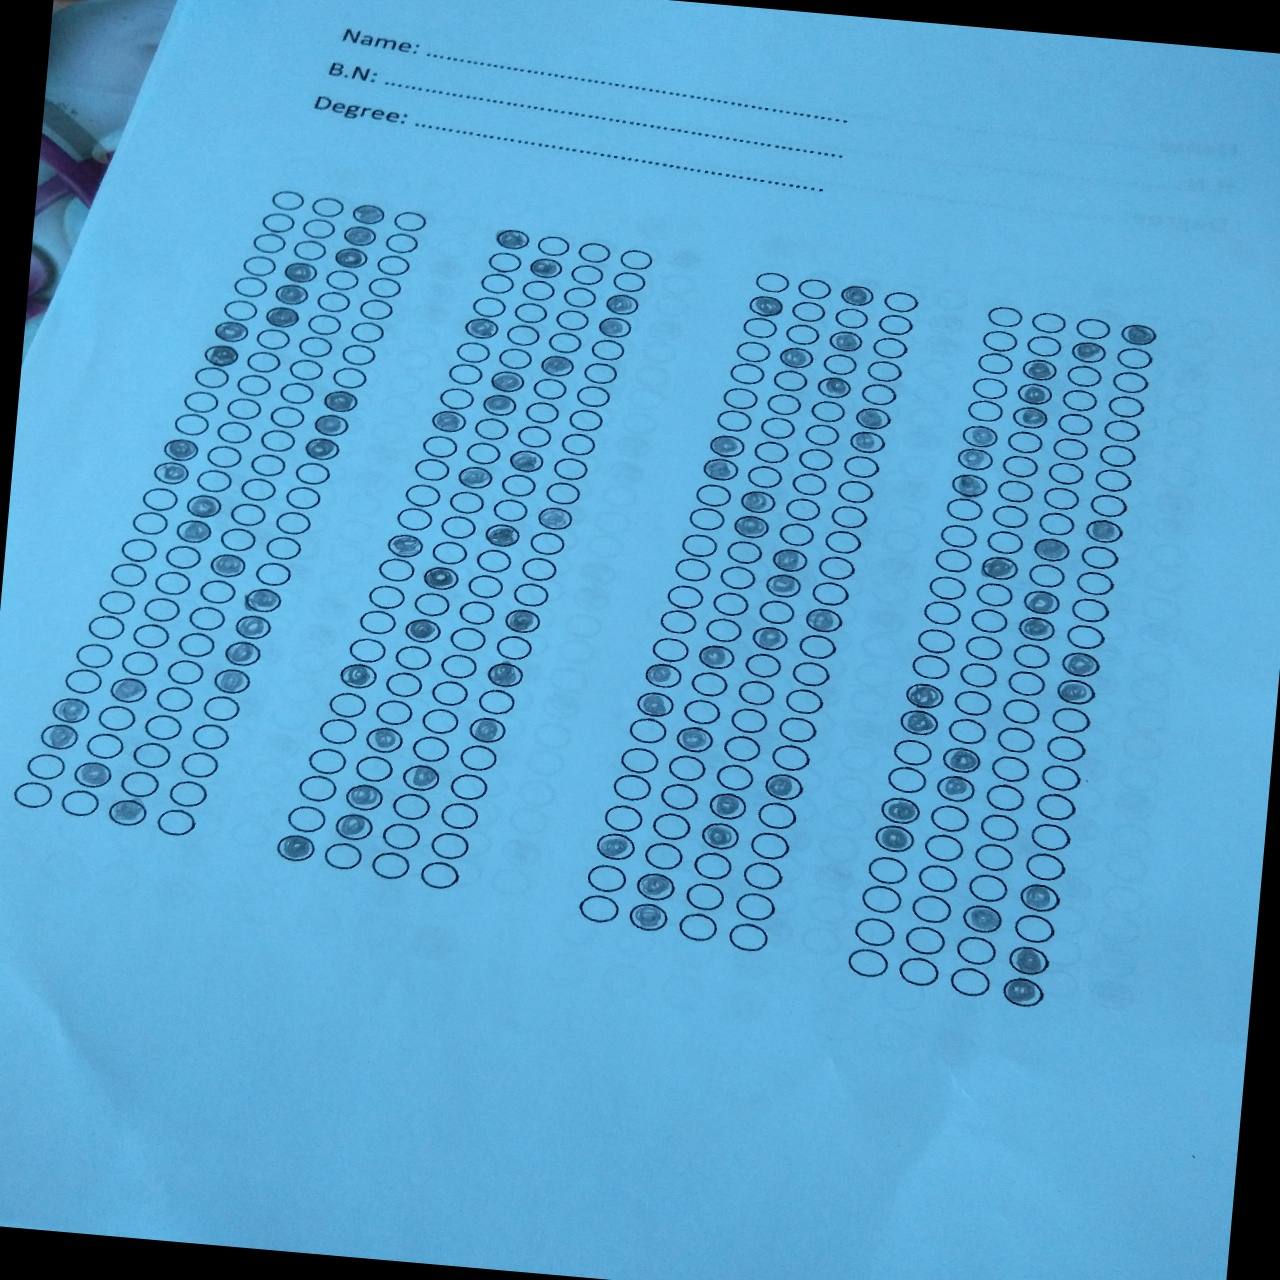not-c: (733, 888, 778, 922), (690, 847, 735, 881), (576, 893, 622, 925), (776, 713, 819, 747), (915, 862, 959, 896), (860, 881, 904, 915), (675, 910, 720, 942), (741, 859, 785, 892), (903, 924, 947, 956), (57, 787, 101, 819), (154, 806, 197, 839), (369, 849, 413, 881), (316, 715, 360, 748), (602, 802, 646, 835), (747, 829, 790, 862), (853, 915, 897, 948), (948, 965, 992, 998), (445, 772, 490, 804), (726, 921, 770, 953), (966, 872, 1010, 904), (896, 955, 940, 987), (908, 893, 953, 925), (586, 862, 627, 896), (321, 840, 363, 873), (379, 821, 421, 853), (438, 799, 481, 832), (373, 696, 415, 729), (611, 771, 653, 804), (846, 946, 888, 979), (389, 791, 433, 823), (409, 734, 452, 765), (769, 741, 812, 772), (682, 881, 726, 913), (1049, 704, 1092, 736), (866, 855, 910, 886), (1012, 913, 1055, 945), (954, 934, 998, 966), (418, 704, 459, 737), (756, 799, 797, 832), (644, 840, 685, 873), (118, 768, 161, 799), (284, 803, 326, 835), (295, 774, 338, 805), (352, 754, 394, 785), (306, 745, 348, 777), (325, 688, 367, 720), (475, 686, 517, 717), (447, 624, 489, 655), (428, 537, 470, 568), (658, 781, 700, 812), (456, 743, 499, 774), (1029, 821, 1073, 851), (131, 740, 172, 771), (493, 632, 535, 663), (651, 810, 692, 842), (142, 712, 184, 742), (12, 779, 54, 810), (25, 751, 67, 782), (418, 859, 461, 890), (429, 831, 471, 862), (429, 678, 471, 708), (438, 652, 481, 682), (356, 607, 399, 638), (376, 554, 418, 585), (471, 545, 513, 576), (517, 553, 559, 584), (713, 761, 755, 791), (952, 688, 994, 719), (996, 724, 1039, 755), (946, 716, 988, 747), (886, 765, 928, 796), (983, 782, 1026, 812), (989, 753, 1032, 783), (1034, 791, 1076, 822), (972, 842, 1014, 872), (783, 686, 824, 716), (728, 704, 769, 735), (721, 734, 762, 764), (681, 696, 722, 727), (1046, 733, 1087, 763), (930, 803, 971, 833), (1024, 851, 1065, 881), (346, 635, 388, 665), (366, 583, 408, 612), (410, 588, 452, 618), (455, 598, 497, 627), (464, 572, 506, 601), (791, 659, 833, 688), (1000, 696, 1042, 726), (891, 737, 933, 767), (1039, 764, 1081, 794), (922, 832, 965, 862), (130, 509, 170, 539), (190, 723, 231, 753), (168, 779, 209, 809), (815, 553, 856, 583), (810, 579, 851, 608), (679, 531, 720, 560), (796, 632, 837, 661), (627, 716, 668, 745), (736, 678, 777, 707), (666, 753, 707, 782), (688, 670, 729, 700), (1065, 622, 1107, 652), (964, 633, 1005, 662), (980, 812, 1021, 842), (382, 670, 424, 699), (508, 581, 550, 610), (821, 527, 863, 556), (717, 564, 760, 592), (701, 617, 743, 645), (755, 597, 797, 625), (618, 745, 660, 774), (920, 599, 962, 627), (253, 559, 293, 588), (163, 542, 203, 571), (198, 576, 238, 605), (86, 612, 125, 641), (131, 621, 171, 651), (395, 505, 435, 535), (513, 421, 553, 450), (933, 546, 973, 576), (154, 685, 195, 713), (96, 703, 137, 731), (179, 751, 220, 779), (392, 644, 433, 672), (542, 479, 583, 508), (411, 456, 452, 484), (840, 452, 881, 481), (723, 538, 764, 566), (672, 556, 713, 584), (665, 583, 706, 611), (658, 608, 699, 636), (709, 590, 750, 618), (651, 635, 692, 663), (742, 651, 783, 679), (1114, 343, 1155, 372), (915, 627, 956, 655), (219, 525, 258, 554), (120, 535, 158, 564), (152, 568, 191, 598), (186, 604, 225, 633), (229, 501, 268, 529), (139, 485, 179, 513), (264, 533, 304, 561), (120, 649, 159, 678), (74, 642, 114, 670), (200, 694, 240, 722), (86, 731, 125, 760), (445, 489, 485, 517), (490, 496, 530, 524), (550, 455, 590, 483), (472, 415, 512, 443), (557, 430, 597, 458), (565, 407, 605, 435), (436, 384, 476, 413), (444, 360, 484, 388), (567, 260, 607, 288), (938, 522, 978, 550), (985, 527, 1024, 556), (927, 574, 967, 602), (1026, 563, 1065, 591), (1080, 543, 1119, 571), (1070, 595, 1110, 624), (971, 607, 1010, 635), (911, 653, 951, 681), (958, 661, 998, 689), (1007, 669, 1047, 697), (520, 399, 561, 425), (1092, 467, 1133, 493), (273, 509, 312, 537), (142, 595, 181, 624), (96, 588, 135, 617), (177, 631, 216, 659), (165, 658, 204, 686), (63, 667, 102, 695), (225, 395, 265, 422), (172, 411, 212, 438), (402, 483, 442, 510), (497, 471, 537, 498), (463, 440, 503, 467), (420, 433, 459, 459), (452, 339, 492, 366), (493, 345, 533, 372), (572, 382, 612, 409), (586, 336, 626, 363), (484, 248, 524, 275), (533, 232, 573, 259), (608, 268, 648, 295), (753, 270, 792, 297), (881, 288, 921, 315), (830, 304, 870, 331), (783, 321, 823, 348), (733, 338, 772, 365), (769, 366, 809, 393), (821, 350, 860, 377), (719, 384, 758, 411), (835, 478, 874, 505), (775, 522, 815, 549), (1050, 435, 1090, 462), (1097, 443, 1137, 470), (974, 581, 1014, 608), (1075, 570, 1115, 597), (1012, 644, 1051, 670), (181, 389, 222, 415), (787, 298, 828, 324), (964, 399, 1005, 424), (1005, 428, 1046, 454), (527, 529, 565, 557), (293, 459, 332, 486), (109, 561, 148, 588), (478, 270, 517, 297), (802, 421, 840, 448), (796, 445, 835, 472), (986, 304, 1024, 331), (1028, 309, 1067, 336), (1055, 410, 1094, 437), (1001, 452, 1040, 479), (215, 418, 254, 444), (256, 427, 295, 452), (204, 444, 244, 470), (193, 468, 233, 493), (282, 485, 322, 511), (529, 376, 568, 402), (579, 360, 619, 386), (545, 331, 585, 356), (502, 322, 542, 348), (468, 294, 508, 320), (510, 300, 550, 326), (559, 284, 599, 309), (574, 239, 614, 265), (794, 275, 833, 301), (876, 312, 915, 338), (740, 315, 779, 341), (870, 335, 910, 361), (808, 399, 847, 424), (757, 415, 797, 441), (789, 471, 829, 497), (693, 482, 733, 508), (686, 508, 726, 533), (1074, 315, 1114, 341), (1024, 333, 1064, 359), (971, 375, 1010, 401), (1060, 387, 1099, 413), (1109, 369, 1149, 395), (1107, 394, 1146, 420), (1102, 418, 1142, 444), (944, 495, 983, 520), (990, 503, 1030, 529), (1046, 461, 1085, 486), (1042, 486, 1082, 512), (392, 207, 429, 234), (268, 404, 307, 430), (248, 451, 287, 477), (239, 476, 278, 502), (518, 277, 557, 302), (617, 247, 655, 273), (727, 361, 765, 387), (864, 359, 903, 384), (859, 382, 898, 408), (764, 392, 803, 417), (751, 440, 790, 465), (745, 464, 784, 490), (830, 504, 869, 530), (783, 496, 822, 522), (981, 328, 1020, 354), (975, 349, 1014, 375), (1065, 363, 1104, 389), (995, 479, 1034, 505), (1037, 510, 1076, 536), (1089, 493, 1128, 519), (440, 513, 476, 540), (268, 188, 306, 213), (291, 237, 328, 263), (358, 297, 395, 322), (340, 342, 377, 368), (331, 365, 368, 390), (305, 312, 342, 338), (236, 372, 273, 397), (278, 381, 315, 407), (552, 307, 590, 333), (715, 407, 753, 433), (309, 195, 345, 222), (383, 230, 420, 256), (300, 216, 336, 241), (260, 209, 297, 234), (375, 253, 411, 279), (367, 274, 403, 300), (287, 358, 324, 383), (297, 334, 333, 360), (322, 267, 359, 293), (240, 253, 277, 279), (222, 297, 258, 322), (193, 365, 230, 390), (231, 274, 268, 299), (245, 349, 282, 374), (251, 231, 287, 256), (254, 326, 291, 350), (315, 290, 350, 314), (349, 320, 384, 343)
taken-c: (1005, 942, 1053, 978), (1000, 976, 1048, 1010), (871, 821, 919, 855), (960, 900, 1006, 935), (1016, 881, 1063, 915), (932, 772, 979, 805), (900, 679, 947, 712), (894, 706, 941, 737), (1051, 675, 1099, 706), (633, 870, 676, 903), (956, 420, 1001, 451), (937, 744, 983, 774), (484, 659, 527, 690), (400, 615, 443, 647), (879, 794, 922, 825), (331, 811, 375, 842), (420, 565, 464, 595), (1019, 588, 1063, 619), (978, 552, 1022, 583), (1082, 517, 1126, 547), (946, 471, 990, 502), (38, 721, 80, 753), (105, 797, 148, 829), (274, 832, 318, 863), (399, 762, 442, 792), (362, 726, 406, 756), (1029, 535, 1073, 565), (673, 724, 717, 754), (699, 821, 740, 852), (70, 760, 113, 790), (342, 783, 384, 813), (465, 716, 508, 747), (336, 661, 379, 692), (452, 462, 495, 492), (803, 605, 845, 635), (642, 661, 685, 692), (626, 901, 668, 932), (633, 689, 676, 719), (762, 772, 805, 802), (953, 444, 996, 474), (1058, 651, 1103, 679), (1013, 615, 1057, 644), (1065, 338, 1110, 366), (232, 613, 273, 644), (535, 504, 576, 535), (707, 791, 748, 822), (594, 831, 635, 862), (501, 607, 543, 636), (695, 641, 737, 670), (749, 625, 792, 653), (1007, 404, 1050, 433), (1017, 356, 1061, 384), (1117, 322, 1160, 350), (244, 586, 284, 617), (504, 447, 545, 476), (1013, 380, 1056, 407), (210, 666, 250, 695), (108, 675, 148, 704), (52, 696, 91, 726), (384, 533, 425, 561), (483, 520, 524, 549), (536, 352, 577, 380), (224, 639, 263, 668), (427, 407, 467, 435), (486, 368, 526, 396), (461, 315, 501, 343), (339, 222, 377, 250), (776, 343, 815, 372), (847, 428, 886, 456), (708, 433, 747, 461), (207, 552, 247, 579), (602, 292, 642, 319), (527, 254, 567, 281), (747, 291, 787, 318), (813, 374, 853, 401), (281, 258, 320, 285), (272, 282, 311, 309), (263, 304, 301, 331), (152, 459, 191, 486), (183, 493, 222, 520), (173, 517, 212, 544), (481, 392, 519, 418), (595, 314, 634, 341), (492, 226, 531, 253), (837, 282, 876, 309), (828, 327, 866, 354), (855, 406, 893, 433), (700, 457, 738, 484), (736, 488, 775, 515), (731, 515, 770, 542), (763, 572, 802, 599), (331, 244, 370, 270), (313, 413, 350, 440), (302, 435, 340, 462), (770, 546, 808, 573), (348, 200, 387, 226), (202, 342, 240, 368), (320, 388, 359, 414), (162, 437, 200, 463), (211, 319, 248, 345)
